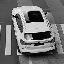mobil: (8, 4, 58, 57)
